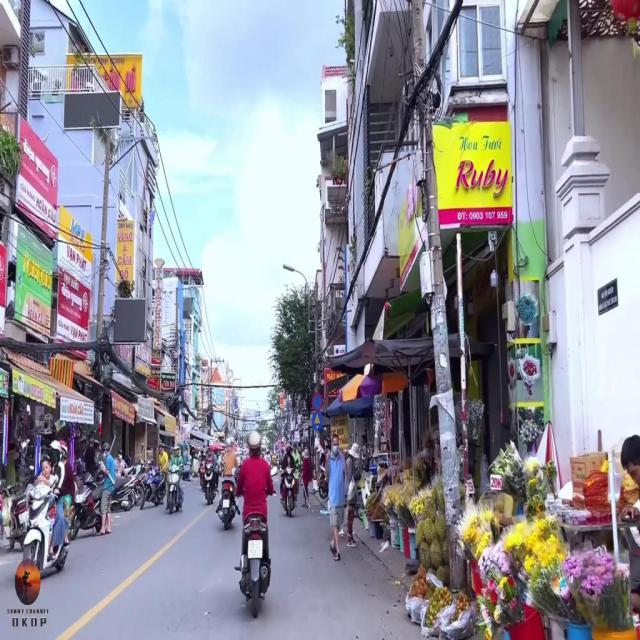131a-cam-do-xe: (309, 392, 322, 410)
442-cho: (312, 413, 322, 430)
